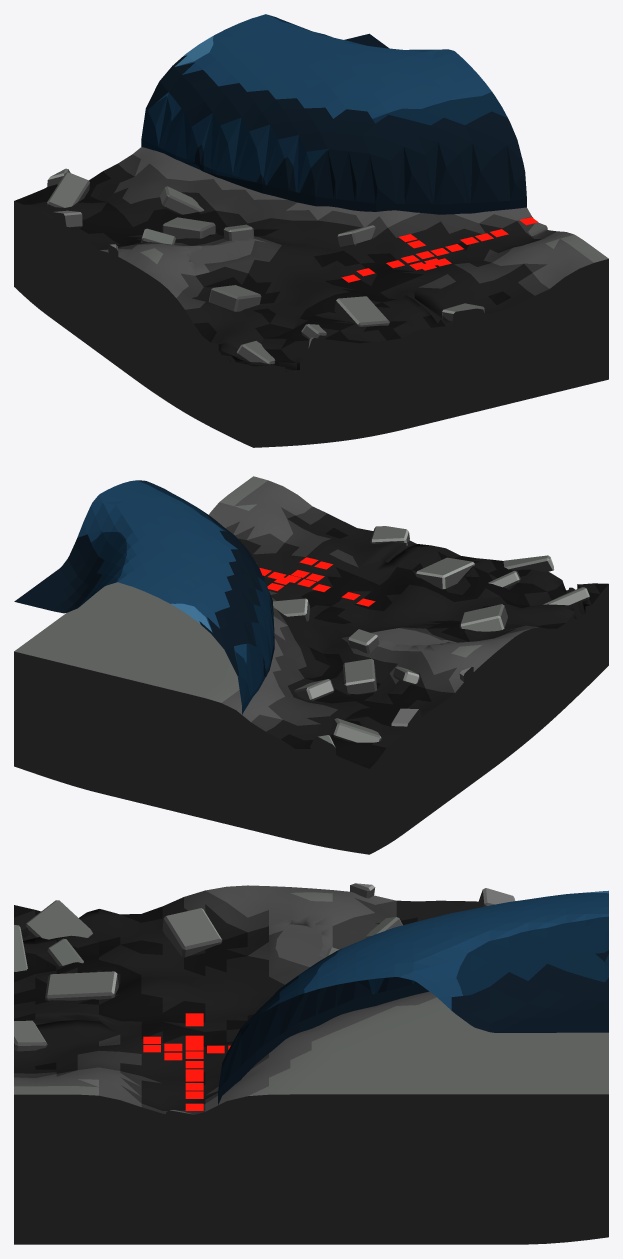
File: camanis_boss_127.glb
3 renders of one model, top to bottom at view 1: azimuth 30°, elevation 25°; view 2: azimuth 150°, elevation 25°; view 3: azimuth 270°, elevation 25°, orthographic. The views are drawn at different scales.
Visible parts, largest first — view 1: camanis_boss_127; view 2: camanis_boss_127; view 3: camanis_boss_127.
Boxes of the visible parts, left/top/right/bottom form: camanis_boss_127: left=14, top=14, right=608, bottom=447; camanis_boss_127: left=14, top=476, right=608, bottom=854; camanis_boss_127: left=14, top=883, right=608, bottom=1244.
Bounding box in the file's own units: 24 × 13.91 × 28.
